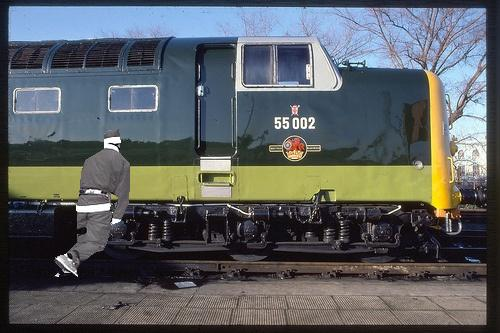tampered: (55, 130, 130, 277)
